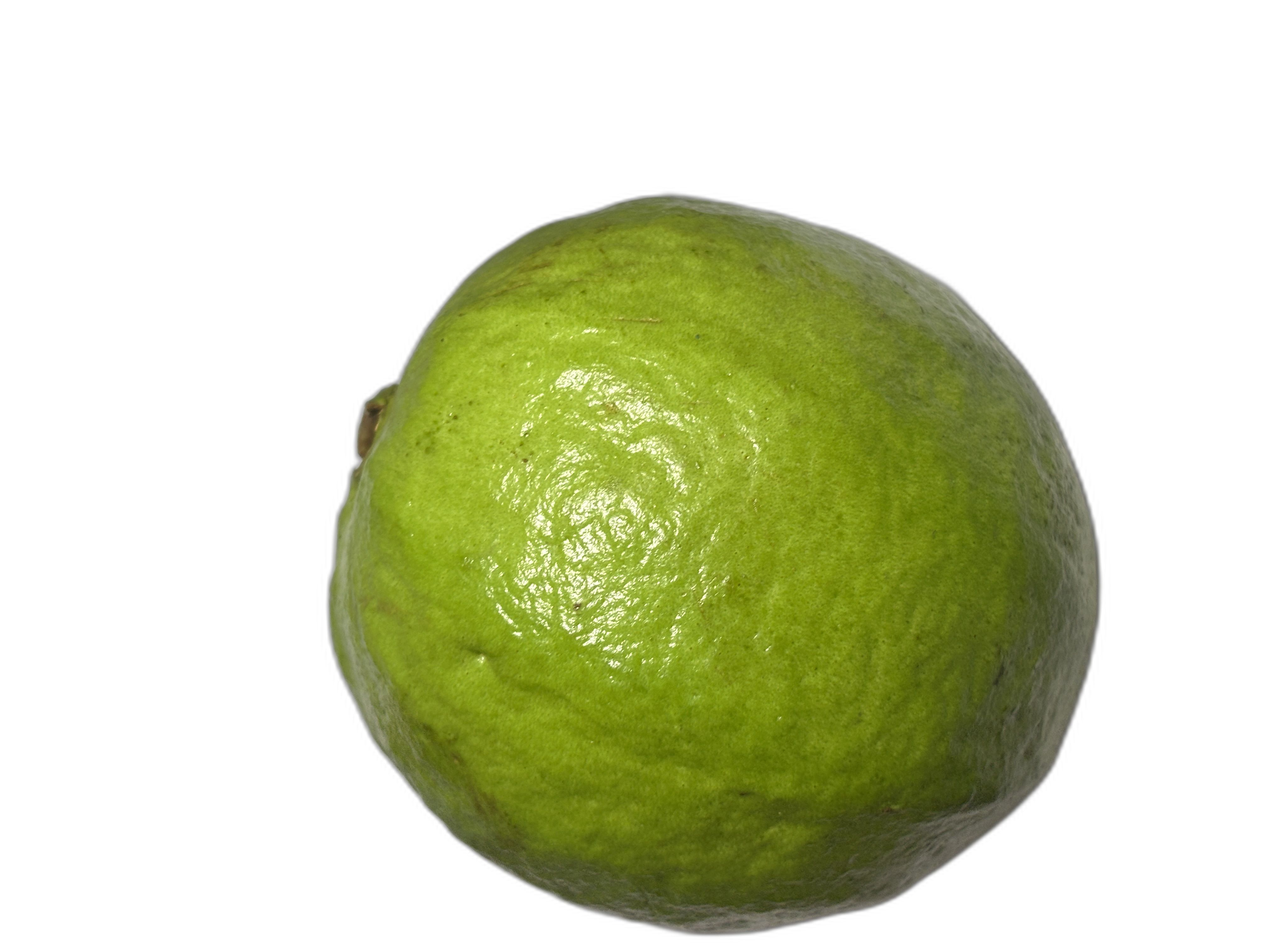guava: (151, 150, 1234, 770)
